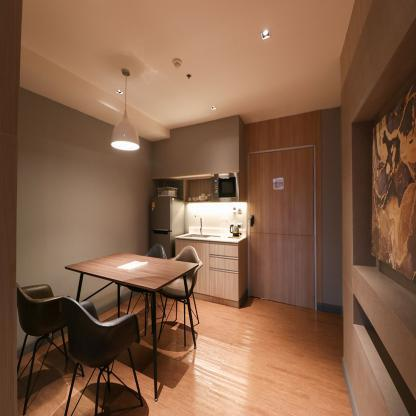chair: (60, 297, 145, 416), (18, 270, 69, 405), (152, 244, 208, 349)
door: (244, 149, 316, 314)
light: (109, 52, 138, 168)
table: (64, 252, 204, 399)
